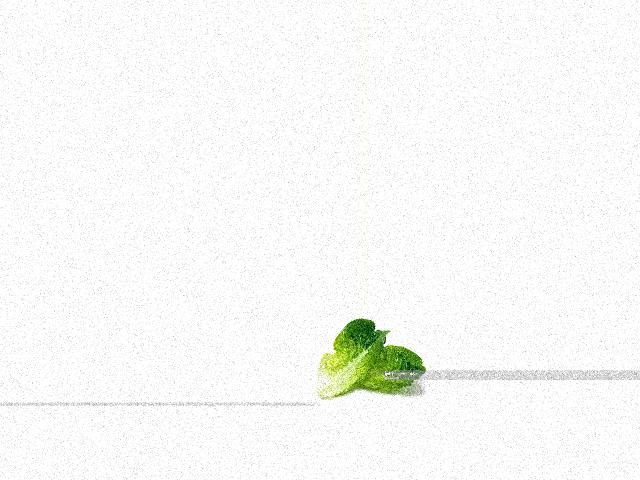lettuce: (313, 318, 428, 394)
